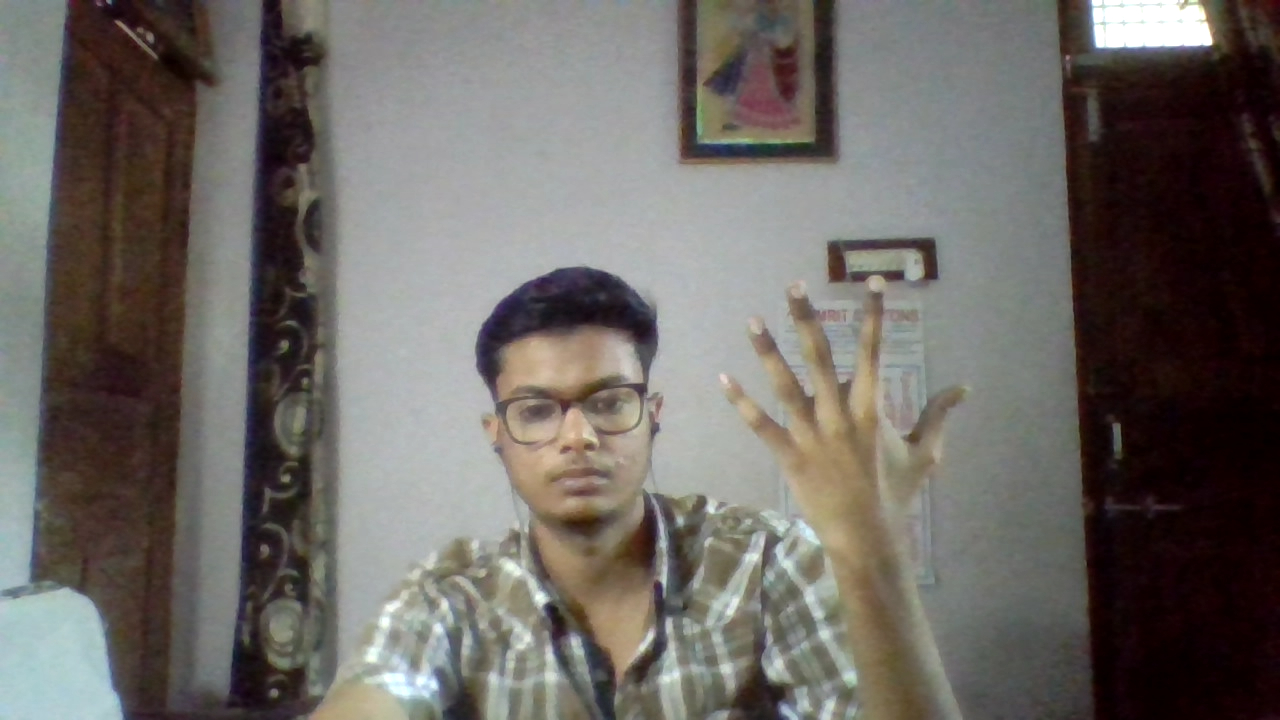five: (701, 261, 988, 565)
